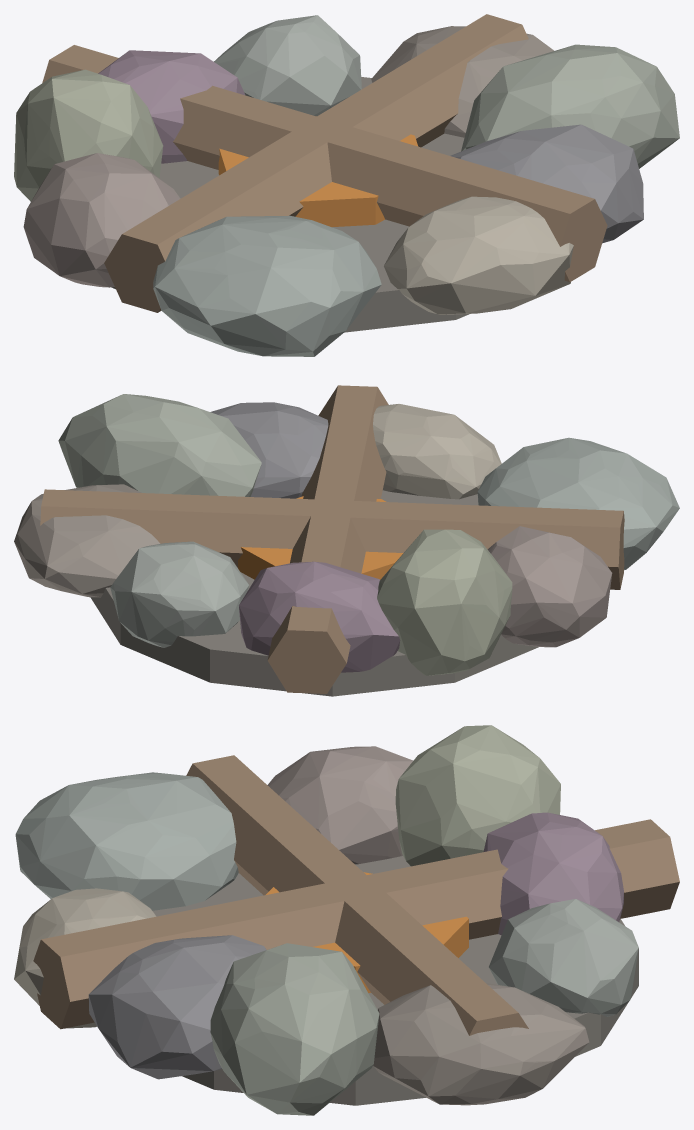
The model's file is fire_pit.glb.
3 renders of one model, top to bottom at view 1: azimuth 30°, elevation 25°; view 2: azimuth 150°, elevation 25°; view 3: azimuth 270°, elevation 25°, orthographic. The views are drawn at different scales.
Visible parts, largest first — view 1: stone_08, log_00, log_01, stone_00, stone_02, stone_07, stone_06, stone_01, stone_04, ash_bed, stone_05, stone_03 (+1 smaller); view 2: log_00, log_01, stone_02, stone_06, stone_08, stone_04, stone_07, ash_bed, stone_05, stone_00, stone_03, stone_01 (+1 smaller); view 3: log_01, stone_08, log_00, stone_02, stone_03, stone_06, stone_01, stone_04, stone_07, stone_05, ash_bed, stone_00 (+1 smaller).
Boxes of the visible parts, x1=… form: stone_08: x1=153, y1=215, x2=381, y2=356; log_00: x1=104, y1=14, x2=528, y2=312; log_01: x1=42, y1=45, x2=607, y2=281; stone_00: x1=384, y1=196, x2=573, y2=314; stone_02: x1=461, y1=44, x2=679, y2=168; stone_07: x1=23, y1=153, x2=180, y2=287; stone_06: x1=14, y1=69, x2=163, y2=201; stone_01: x1=450, y1=124, x2=643, y2=243; stone_04: x1=214, y1=15, x2=361, y2=116; ash_bed: x1=111, y1=77, x2=469, y2=332; stone_05: x1=98, y1=50, x2=245, y2=163; stone_03: x1=371, y1=26, x2=554, y2=137; log_00: x1=40, y1=489, x2=624, y2=589; log_01: x1=267, y1=385, x2=388, y2=693; stone_02: x1=58, y1=394, x2=261, y2=496; stone_06: x1=377, y1=529, x2=512, y2=675; stone_08: x1=477, y1=437, x2=679, y2=570; stone_04: x1=110, y1=541, x2=249, y2=647; stone_07: x1=487, y1=526, x2=612, y2=647; ash_bed: x1=90, y1=490, x2=538, y2=696; stone_05: x1=239, y1=561, x2=400, y2=672; stone_00: x1=373, y1=404, x2=501, y2=499; stone_03: x1=14, y1=484, x2=160, y2=597; stone_01: x1=210, y1=402, x2=328, y2=498; log_01: x1=33, y1=819, x2=679, y2=1029; stone_08: x1=15, y1=772, x2=238, y2=910; log_00: x1=186, y1=755, x2=528, y2=1035; stone_02: x1=210, y1=943, x2=379, y2=1115; stone_03: x1=373, y1=983, x2=589, y2=1105; stone_06: x1=395, y1=725, x2=560, y2=866; stone_01: x1=88, y1=935, x2=266, y2=1079; stone_04: x1=489, y1=899, x2=638, y2=1016; stone_07: x1=267, y1=746, x2=413, y2=864; stone_05: x1=483, y1=812, x2=623, y2=935; ash_bed: x1=152, y1=856, x2=638, y2=1105; stone_00: x1=14, y1=888, x2=156, y2=1028.
Size of the model in its own units: 1.05 by 0.242 by 0.9403.
